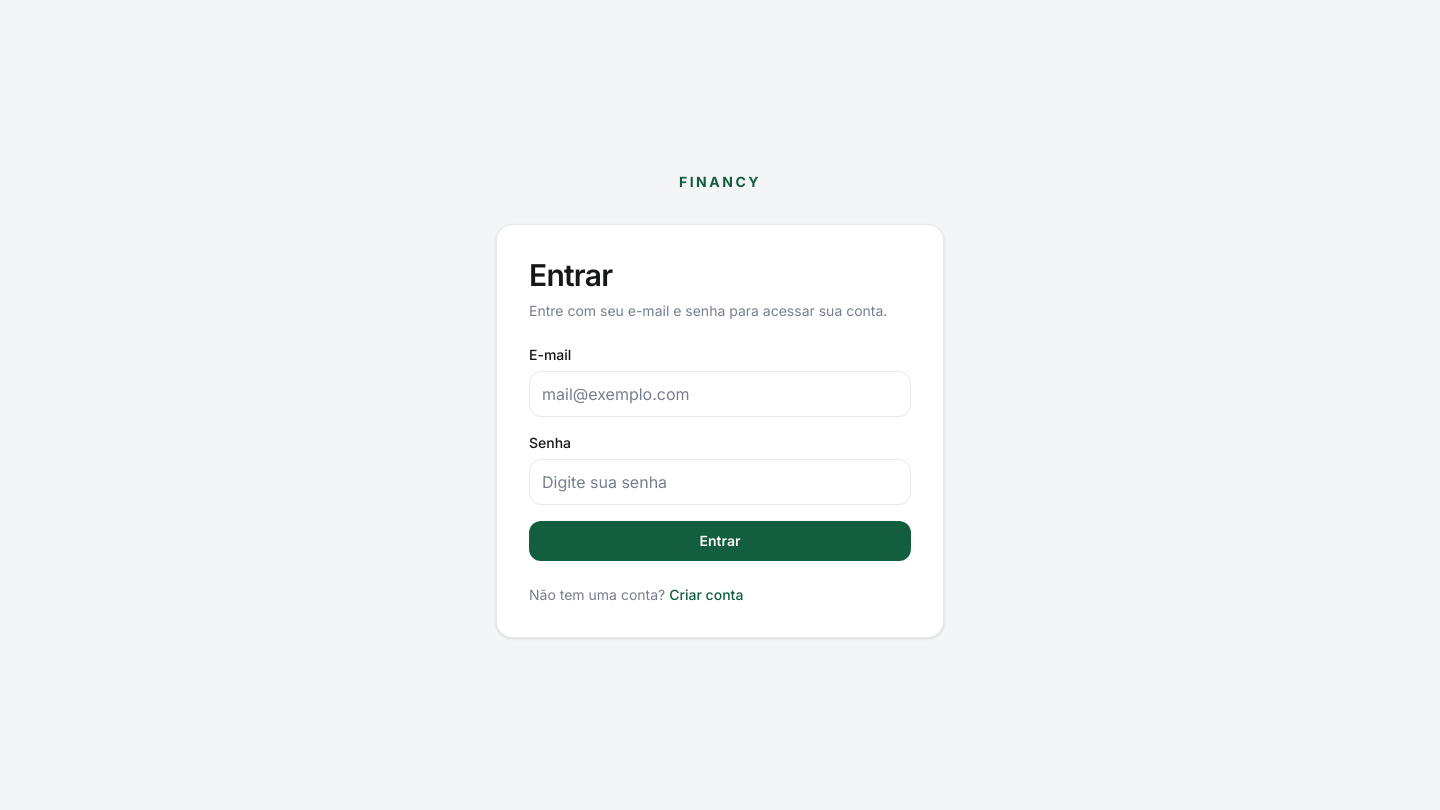
visitor authentication › opens the dashboard after a valid sign-in
The width and height of the screenshot is (1440, 810).
In the field labelled "E-mail": (720, 394) x1=529 y1=371 x2=911 y2=417, type "ana@financy.test"
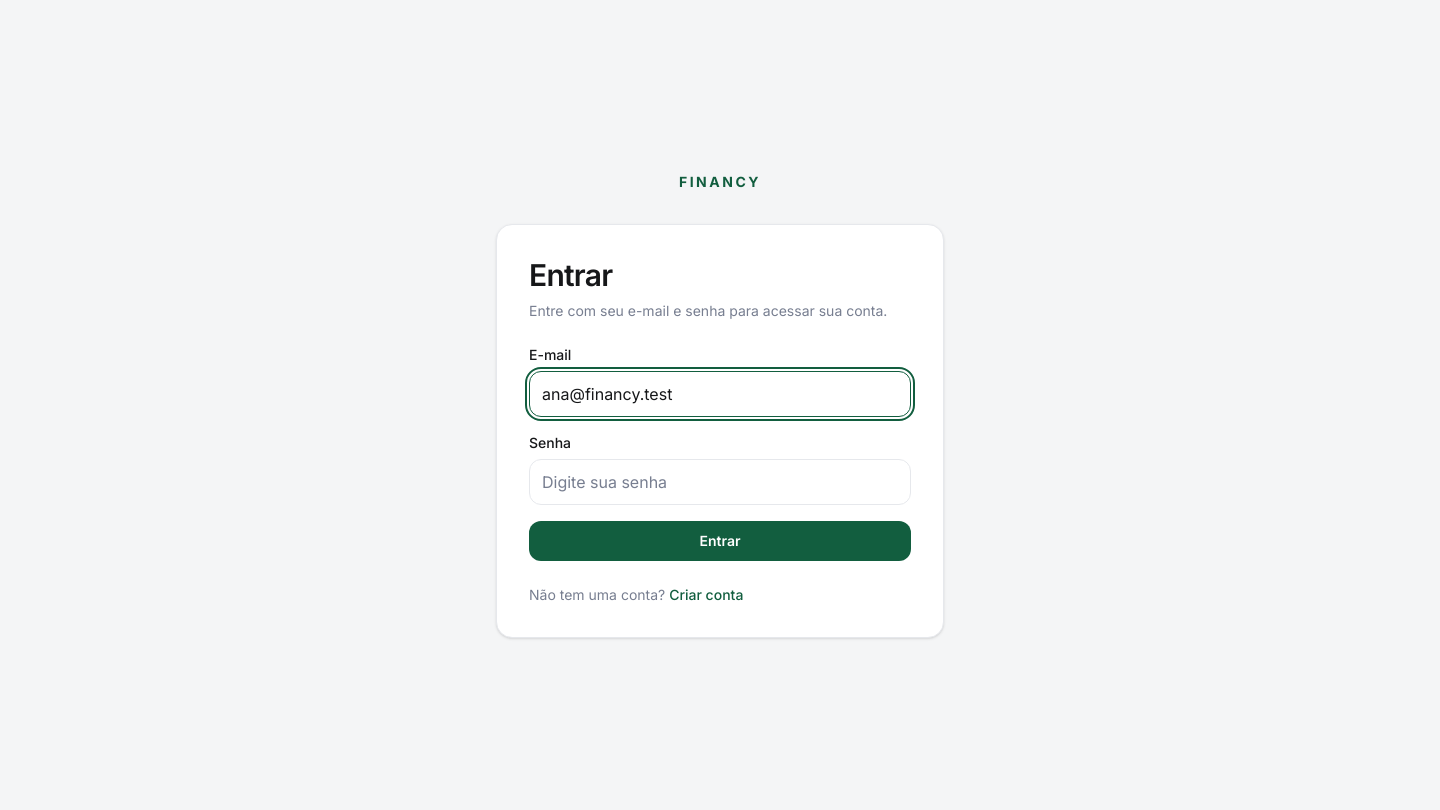
In the password field labelled "Senha": (720, 482) x1=529 y1=459 x2=911 y2=505, type "correct horse"
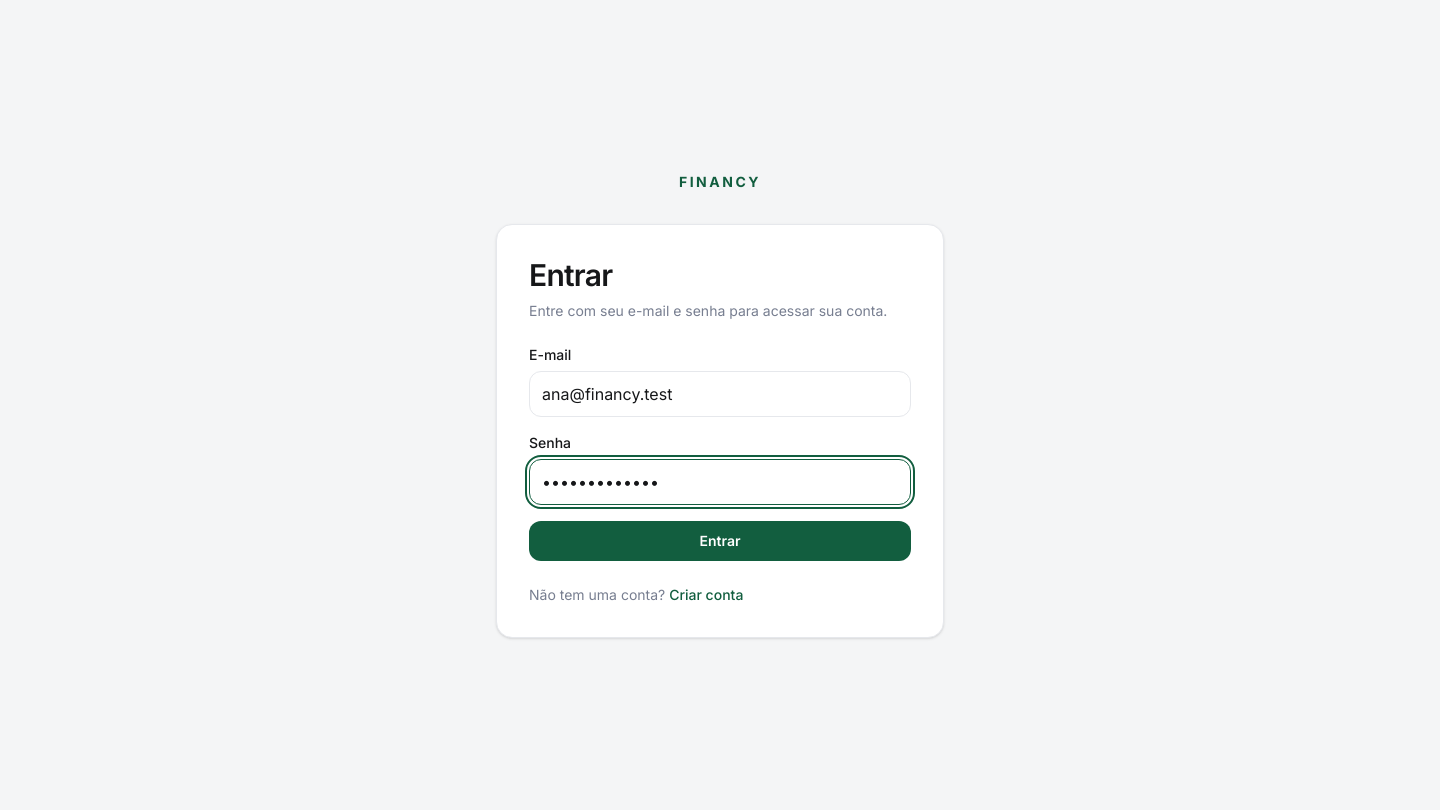
Click the button "Entrar": (720, 541) x1=529 y1=521 x2=911 y2=561
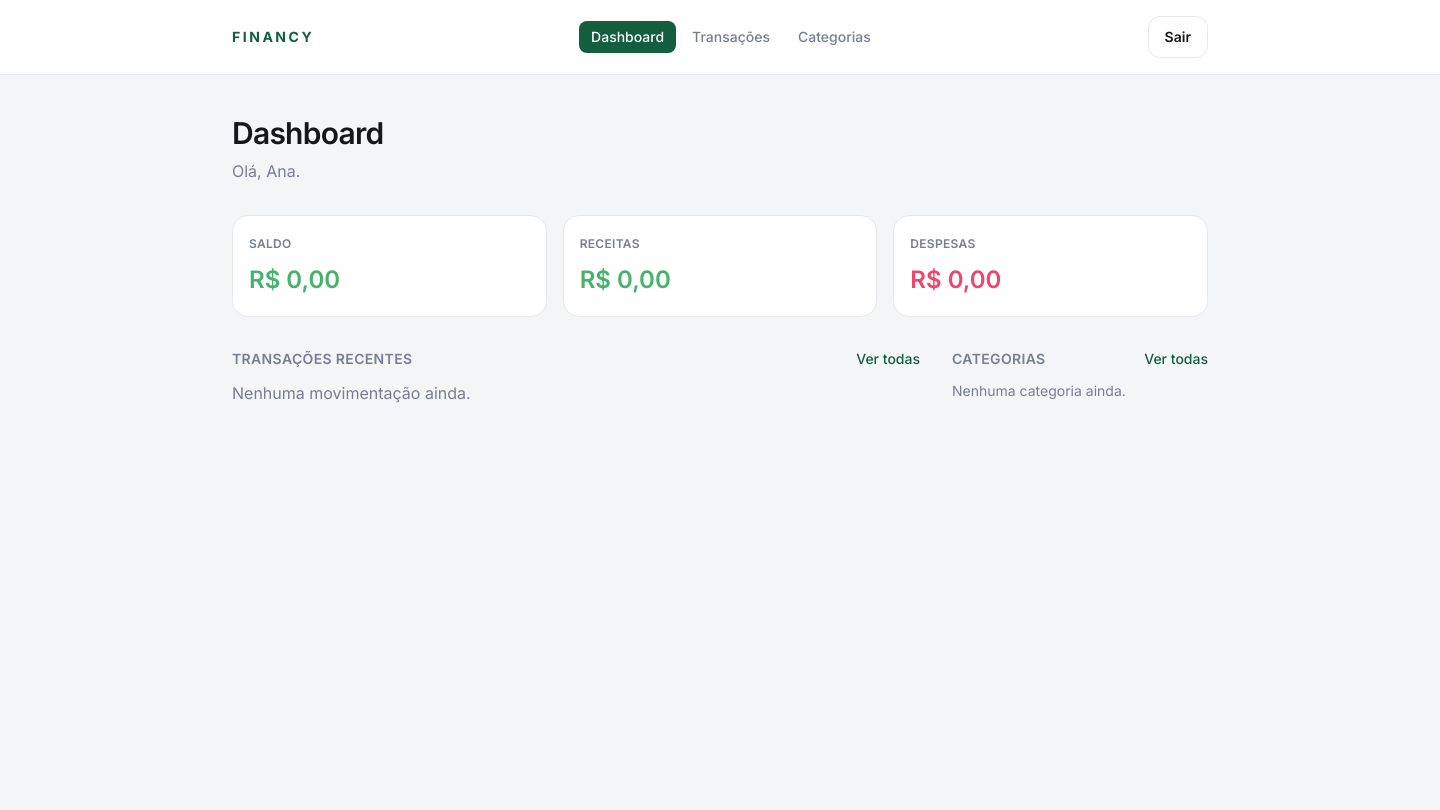
Now the heading "Dashboard" is shown, box x1=232 y1=115 x2=384 y2=151
Now the text "Olá, Ana." is shown, box x1=232 y1=161 x2=300 y2=181
